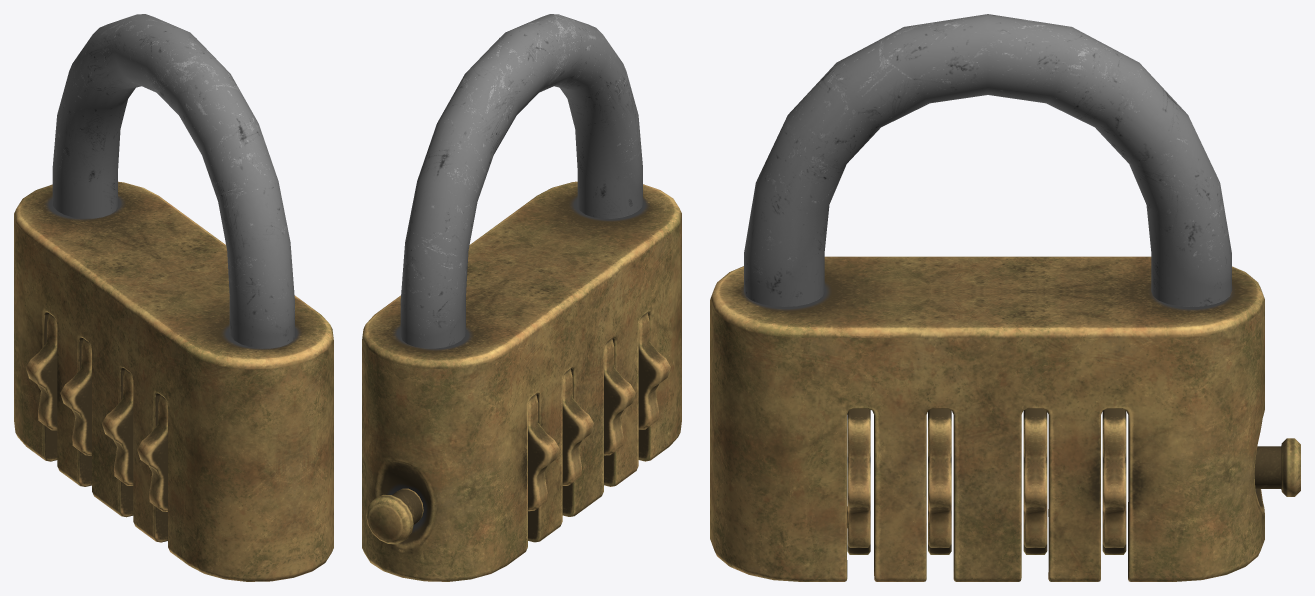
File: asset.glb
The picture shows the model from 3 angles, left to right: view 1: azimuth 30°, elevation 25°; view 2: azimuth 150°, elevation 25°; view 3: azimuth 270°, elevation 25°; orthographic projection. The views are drawn at different scales.
Parts seen in each view (by area): view 1: to_Engine2; view 2: to_Engine2; view 3: to_Engine2.
Boxes of the visible parts, <box> form: to_Engine2: <box>14,14,333,581</box>; to_Engine2: <box>362,14,681,581</box>; to_Engine2: <box>710,14,1300,581</box>.
Size of the model in its own units: 1.14 by 2.81 by 2.84.
Materials: 1 (1 with a texture image).
